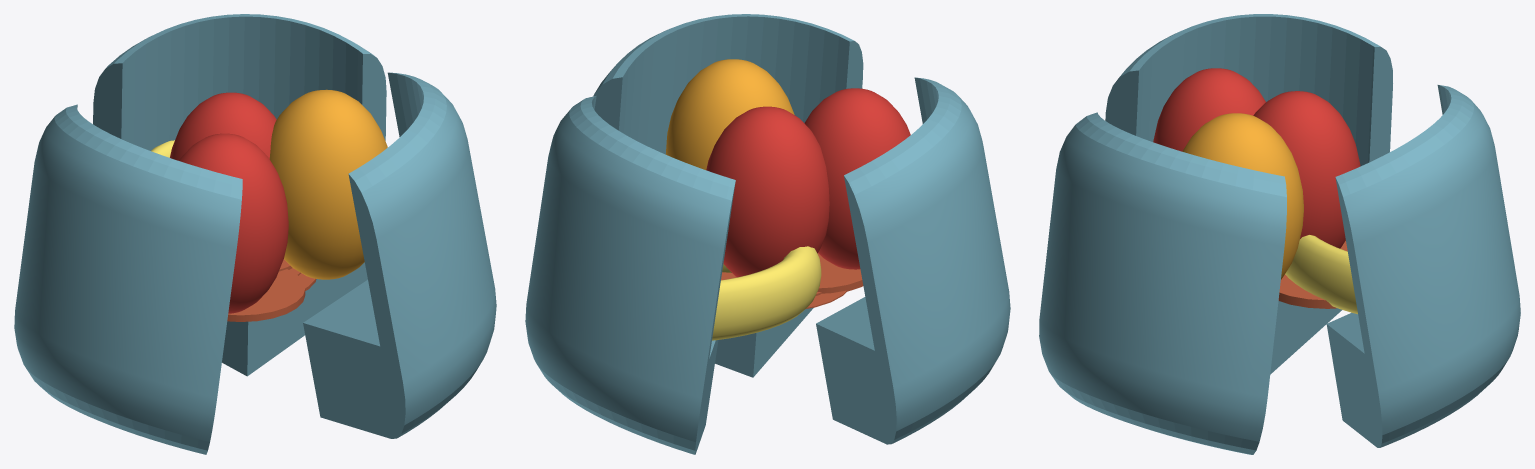
Rendered from fruit_bowl_dead.glb.
3 renders of one model, left to right at view 1: azimuth 30°, elevation 25°; view 2: azimuth 150°, elevation 25°; view 3: azimuth 270°, elevation 25°, orthographic.
Parts seen in each view (by area): view 1: Cylinder.009, Cylinder.010, Cylinder.008, Sphere.004, Sphere.005, Sphere.003, Cylinder.014; view 2: Cylinder.008, Cylinder.009, Cylinder.010, Sphere.003, Sphere.005, Sphere.004, Torus.001, Cylinder.014; view 3: Cylinder.010, Cylinder.008, Cylinder.009, Sphere.003, Sphere.004, Sphere.005, Torus.001, Cylinder.015.
Part boxes in pixels (box(x1,y1,x2,y2)): Cylinder.009: box(14, 104, 242, 454); Cylinder.010: box(303, 72, 496, 438); Cylinder.008: box(93, 14, 386, 376); Sphere.004: box(269, 89, 387, 279); Sphere.005: box(179, 133, 288, 313); Sphere.003: box(170, 92, 276, 160); Cylinder.014: box(227, 269, 305, 321); Cylinder.008: box(525, 96, 735, 454); Cylinder.009: box(816, 77, 1010, 444); Cylinder.010: box(593, 14, 863, 377); Sphere.003: box(706, 106, 829, 277); Sphere.005: box(804, 88, 910, 269); Sphere.004: box(665, 59, 794, 169); Torus.001: box(712, 246, 821, 340); Cylinder.014: box(817, 253, 863, 293); Cylinder.010: box(1039, 112, 1286, 454); Cylinder.008: box(1326, 85, 1520, 447); Cylinder.009: box(1105, 14, 1392, 374); Sphere.003: box(1253, 91, 1360, 248); Sphere.004: box(1182, 113, 1303, 279); Sphere.005: box(1153, 68, 1265, 151); Torus.001: box(1285, 235, 1357, 314); Cylinder.015: box(1279, 240, 1347, 308).
Size of the model in its own units: 7.03 by 5.18 by 7.12.
